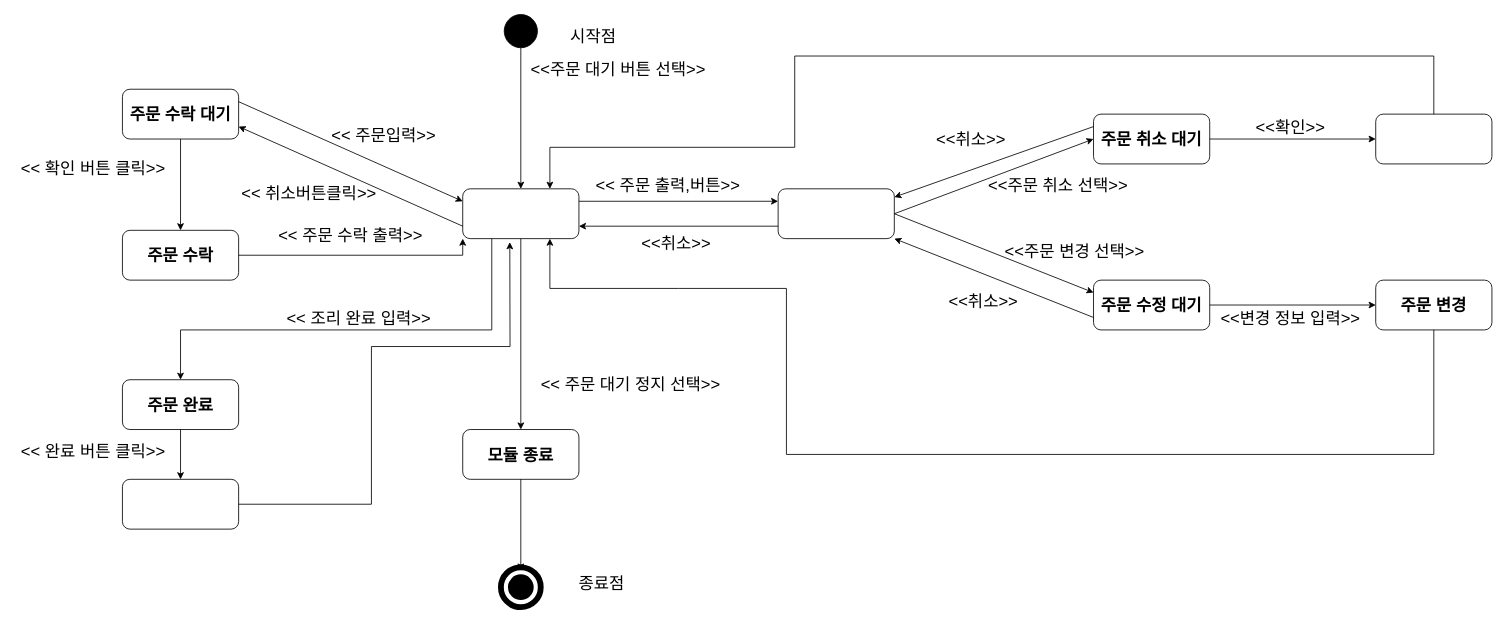
The diagram is 1506 pixels wide and 620 high, and some of its shapes have lost their labels. The shapes that lost their labels are listed below. From the top down, each one's box as (x1, y1, x2, y2) in pixels, then its label:
(1375, 113, 1492, 164): 주문 삭제
(462, 188, 579, 239): 주문대기
(777, 188, 894, 239): 주문 선택
(122, 478, 239, 529): 주문 완료 처리
